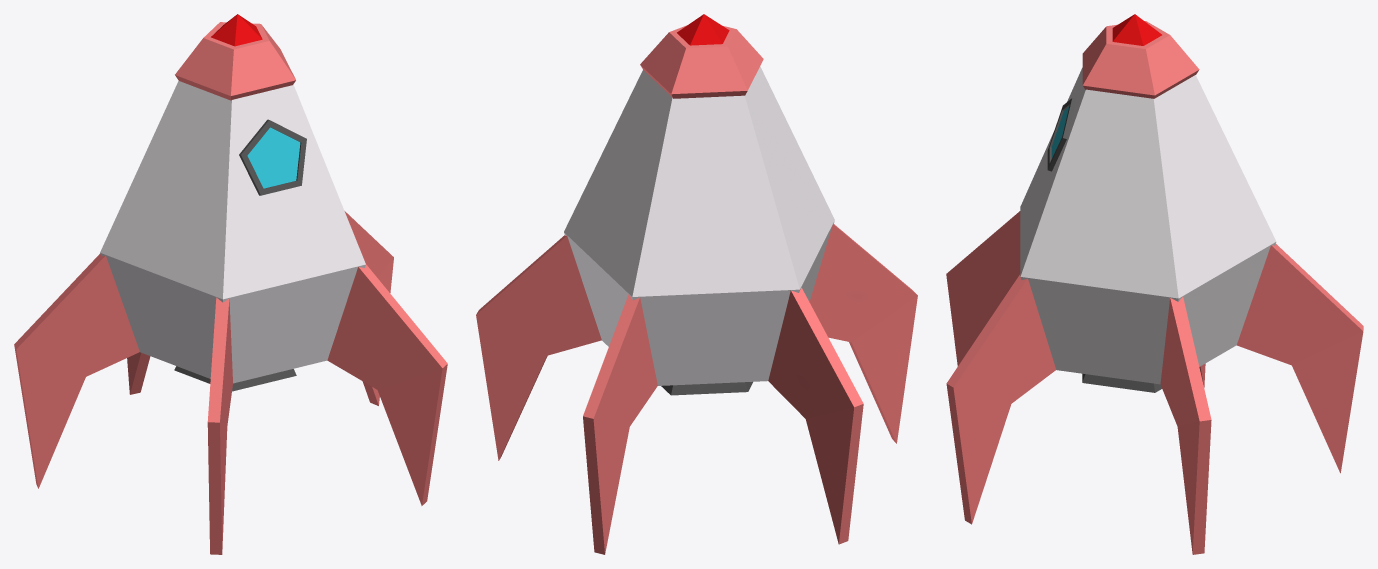
The model's file is rocket.fbx.
3 renders of one model, left to right at view 1: azimuth 30°, elevation 25°; view 2: azimuth 150°, elevation 25°; view 3: azimuth 270°, elevation 25°, orthographic.
Visible parts, largest first — view 1: rocket; view 2: rocket; view 3: rocket.
Part boxes in pixels (x1,y1,x2,y2): rocket: [14, 14, 447, 554]; rocket: [476, 14, 917, 554]; rocket: [946, 14, 1363, 554].
Size of the model in its own units: 391 by 450 by 372.
